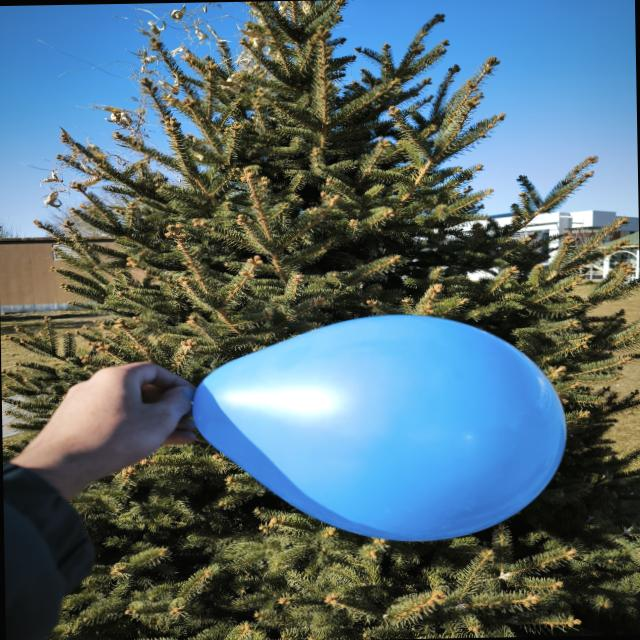balloon: (193, 315, 565, 541)
